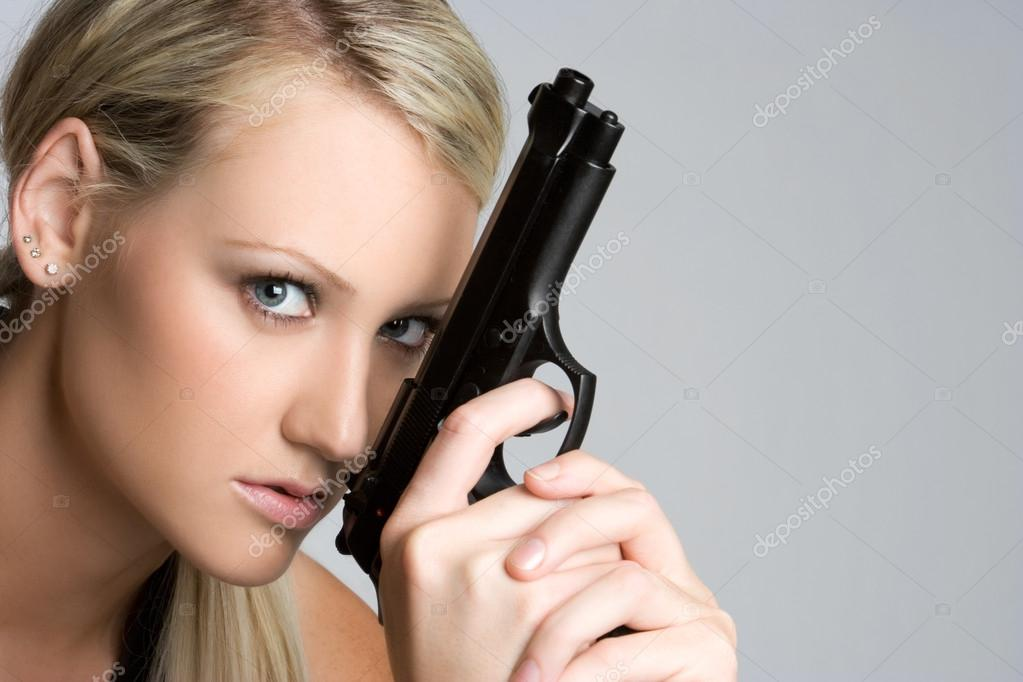pistol: (333, 64, 649, 645)
